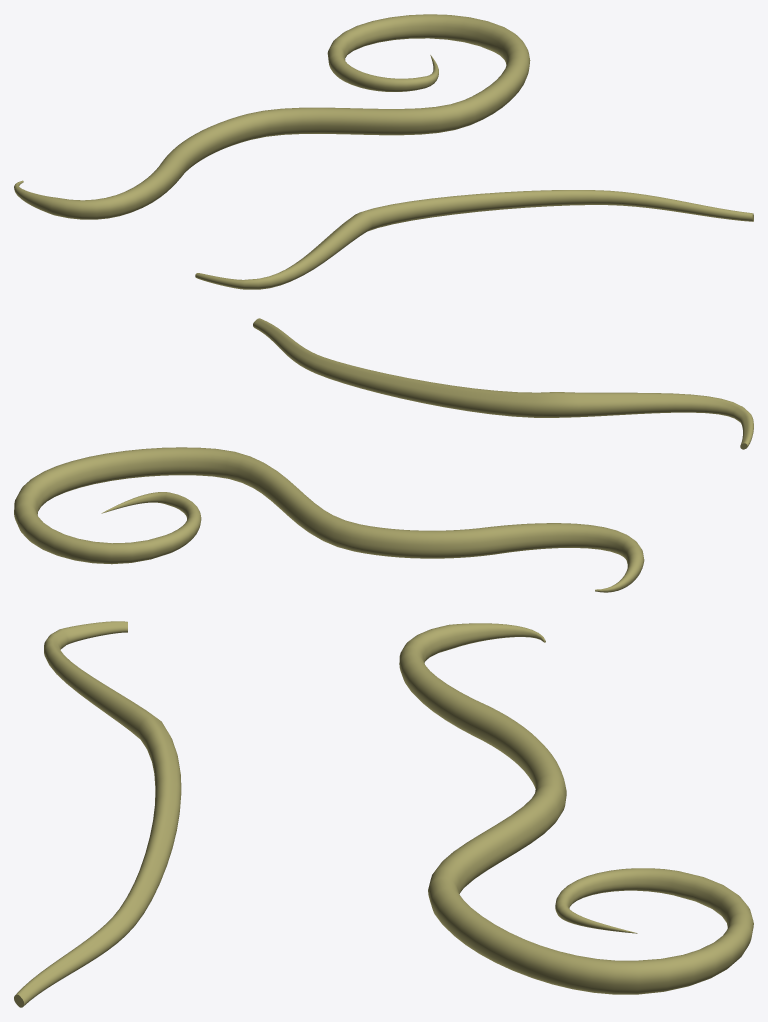
The model's file is String.fbx.
The picture shows the model from 3 angles, top to bottom: view 1: azimuth 30°, elevation 25°; view 2: azimuth 150°, elevation 25°; view 3: azimuth 270°, elevation 25°; orthographic projection. The views are drawn at different scales.
Parts seen in each view (by area): view 1: StringLong, StringShort; view 2: StringLong, StringShort; view 3: StringLong, StringShort.
Boxes of the visible parts, x1,y1,x2,y2 form: StringLong: (14, 14, 530, 219); StringShort: (195, 190, 753, 289); StringLong: (14, 447, 644, 592); StringShort: (253, 318, 753, 449); StringLong: (399, 623, 753, 994); StringShort: (14, 621, 181, 1007).
Bounding box in the file's own units: 537 × 52.83 × 480.
